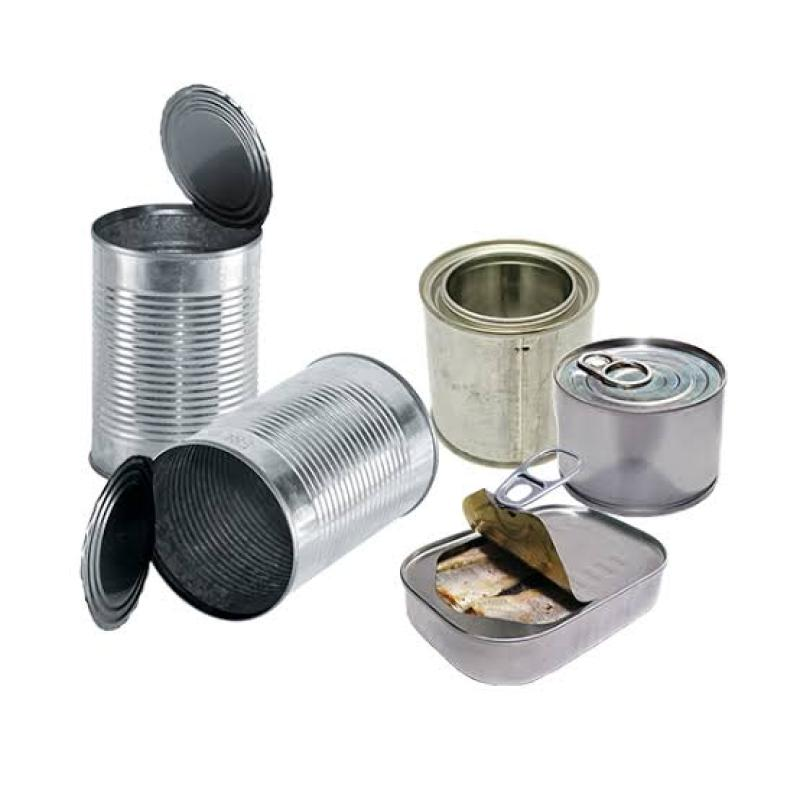aluminum: (81, 352, 440, 632), (88, 84, 273, 479), (399, 448, 667, 686), (419, 240, 599, 466), (552, 338, 726, 519)
